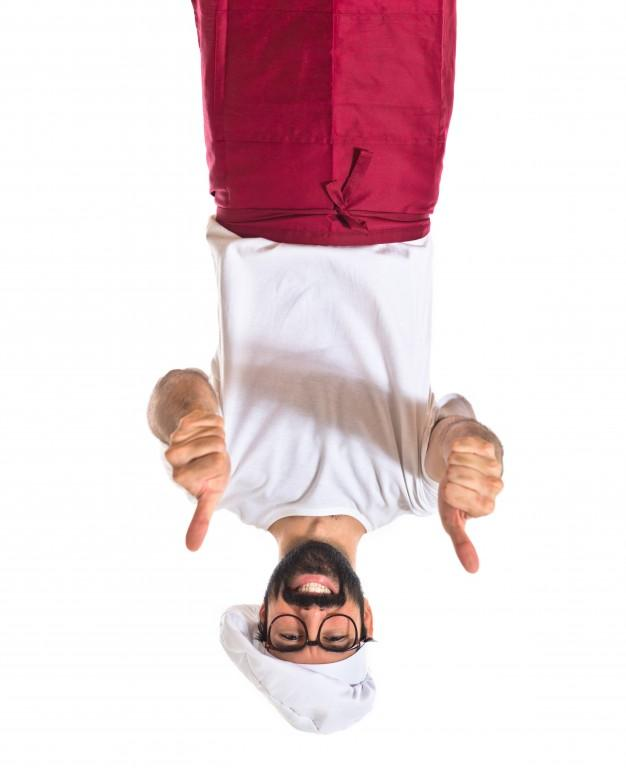thumbsdown: (164, 409, 228, 552), (439, 436, 503, 573)
